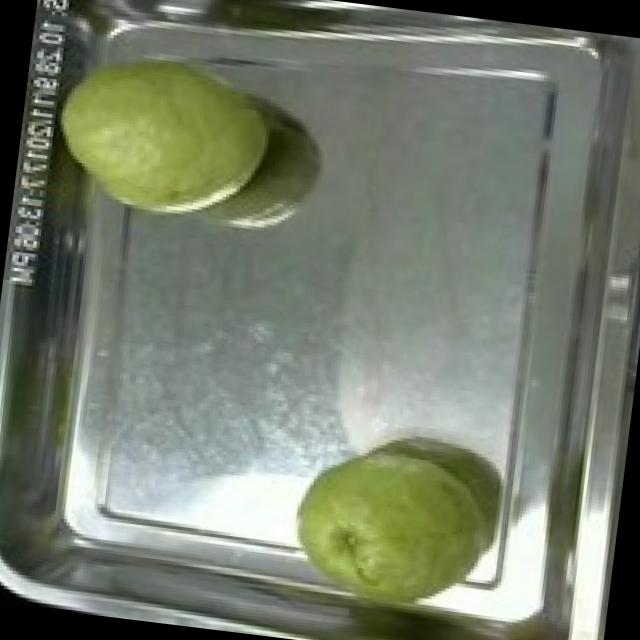Fruit: (43, 2, 291, 240), (276, 420, 508, 630)
